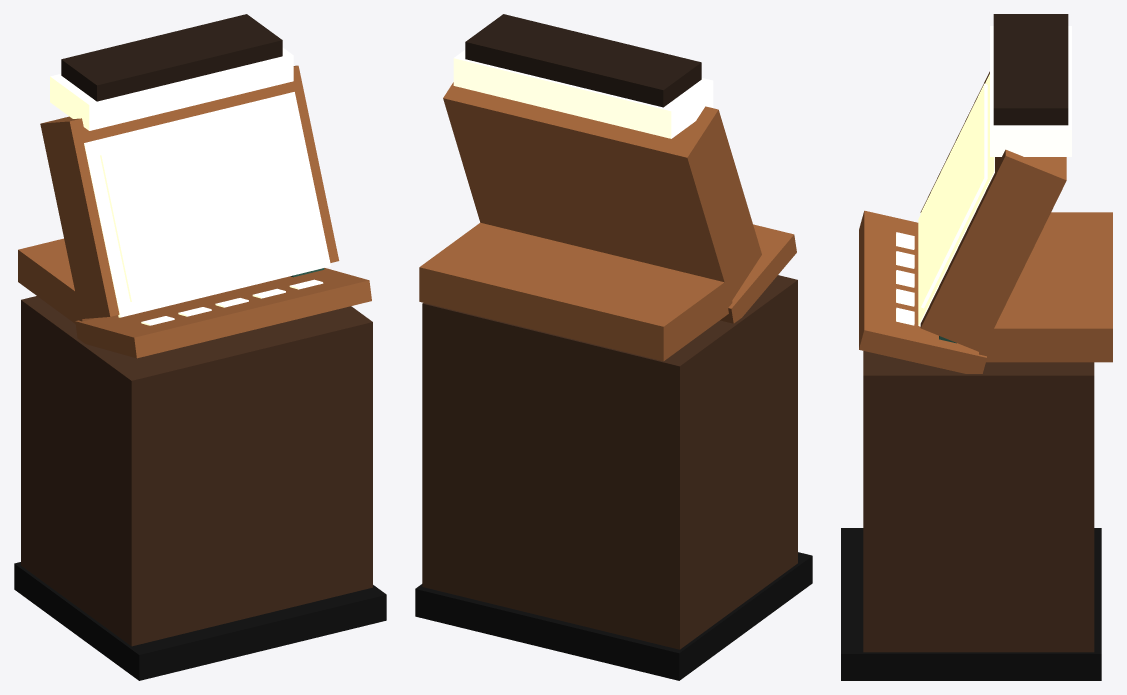
File: video_poker_terminal.glb
3 views of the same model, side by side, from view 1: azimuth 30°, elevation 25°; view 2: azimuth 150°, elevation 25°; view 3: azimuth 270°, elevation 25° (orthographic). The views are drawn at different scales.
Parts seen in each view (by area): view 1: video_poker_terminal wood, video_poker_terminal screen, video_poker_terminal metal, video_poker_terminal lamp, video_poker_terminal rubber, video_poker_terminal sign; view 2: video_poker_terminal wood, video_poker_terminal metal, video_poker_terminal rubber, video_poker_terminal sign, video_poker_terminal lamp; view 3: video_poker_terminal wood, video_poker_terminal metal, video_poker_terminal rubber, video_poker_terminal sign, video_poker_terminal screen, video_poker_terminal lamp.
Part boxes in pixels (x1=…): video_poker_terminal wood: x1=21, y1=296, x2=372, y2=646; video_poker_terminal screen: x1=100, y1=110, x2=317, y2=301; video_poker_terminal metal: x1=18, y1=65, x2=371, y2=358; video_poker_terminal lamp: x1=50, y1=47, x2=330, y2=325; video_poker_terminal rubber: x1=14, y1=562, x2=386, y2=680; video_poker_terminal sign: x1=61, y1=14, x2=282, y2=101; video_poker_terminal wood: x1=422, y1=275, x2=797, y2=649; video_poker_terminal metal: x1=419, y1=82, x2=796, y2=361; video_poker_terminal rubber: x1=415, y1=552, x2=812, y2=680; video_poker_terminal sign: x1=465, y1=14, x2=701, y2=107; video_poker_terminal lamp: x1=453, y1=50, x2=713, y2=138; video_poker_terminal wood: x1=863, y1=351, x2=1094, y2=652; video_poker_terminal metal: x1=859, y1=71, x2=1112, y2=373; video_poker_terminal rubber: x1=841, y1=528, x2=1101, y2=680; video_poker_terminal sign: x1=993, y1=14, x2=1068, y2=125; video_poker_terminal screen: x1=920, y1=83, x2=987, y2=308; video_poker_terminal lamp: x1=896, y1=26, x2=1071, y2=326.
Size of what is drawn, in the model's own units: 0.8 by 1.65 by 0.73.
